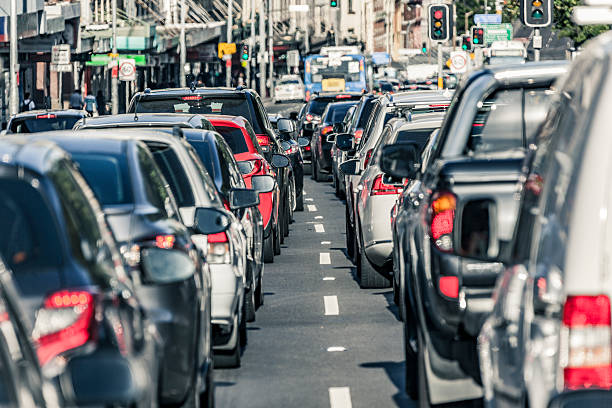bus: (303, 48, 372, 95)
car: (394, 60, 558, 408), (2, 136, 163, 408), (165, 131, 269, 357), (346, 107, 442, 283), (221, 113, 293, 223), (307, 98, 350, 179), (272, 72, 304, 102)
